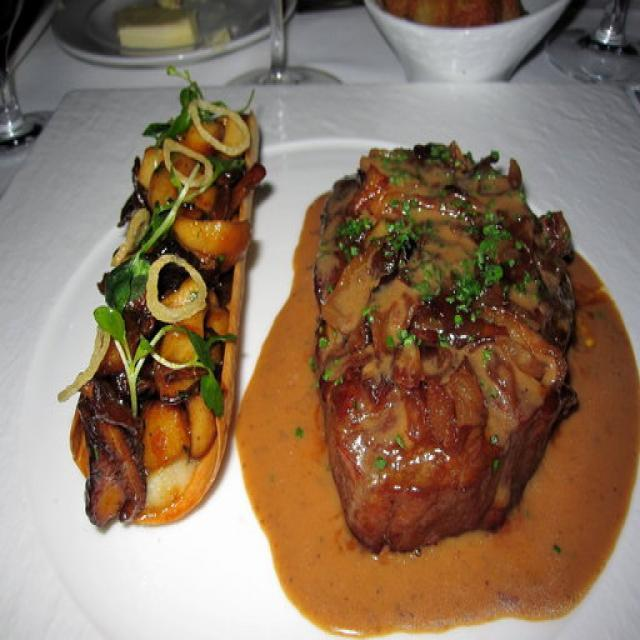Steak: (299, 138, 607, 542)
